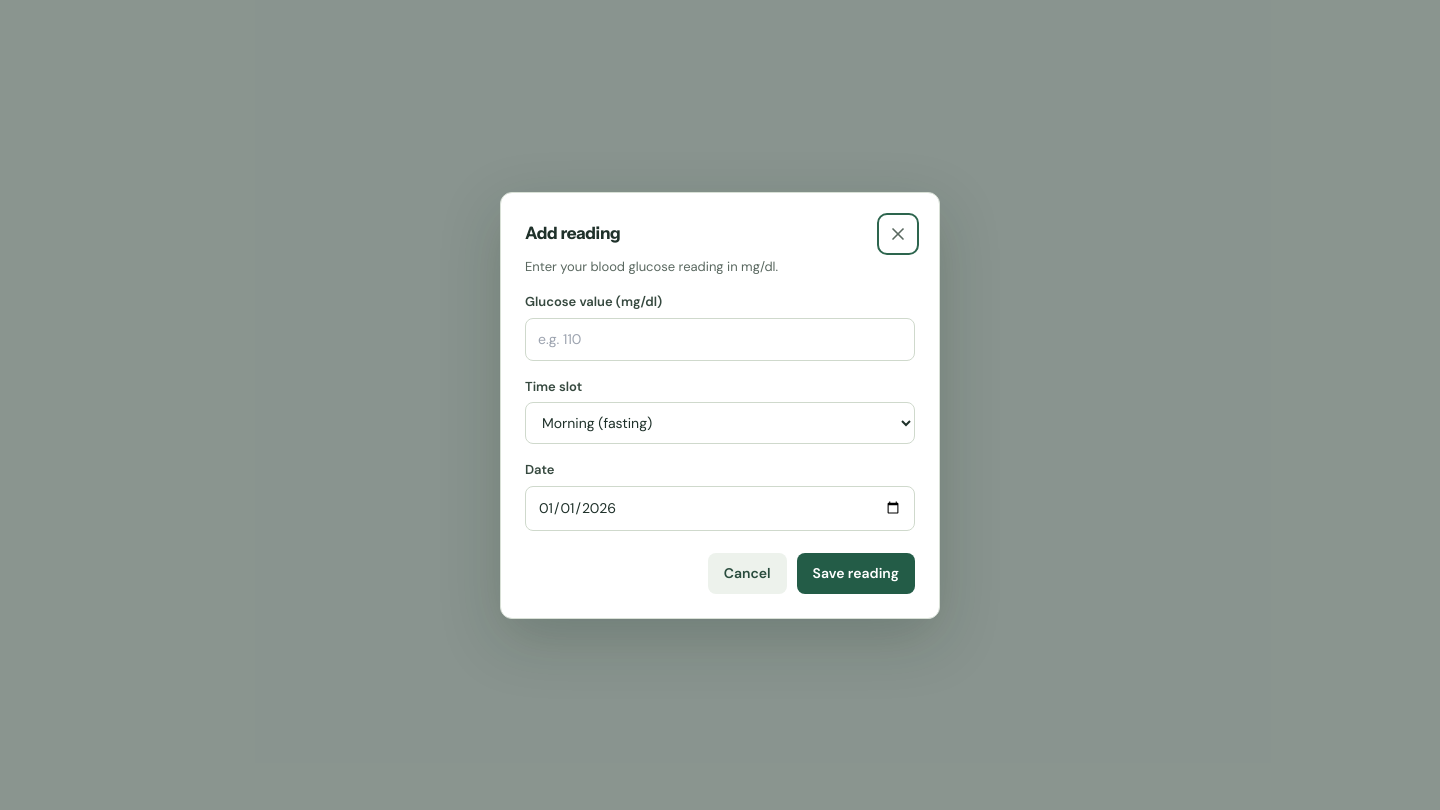
Test: Reading modal › renders labelled inputs and validates required value
Expected: the dropdown labelled "Time slot" is shown, [525,402,915,444]
Click the button "Save reading". click: [856, 573]
box: [797,552,915,594]
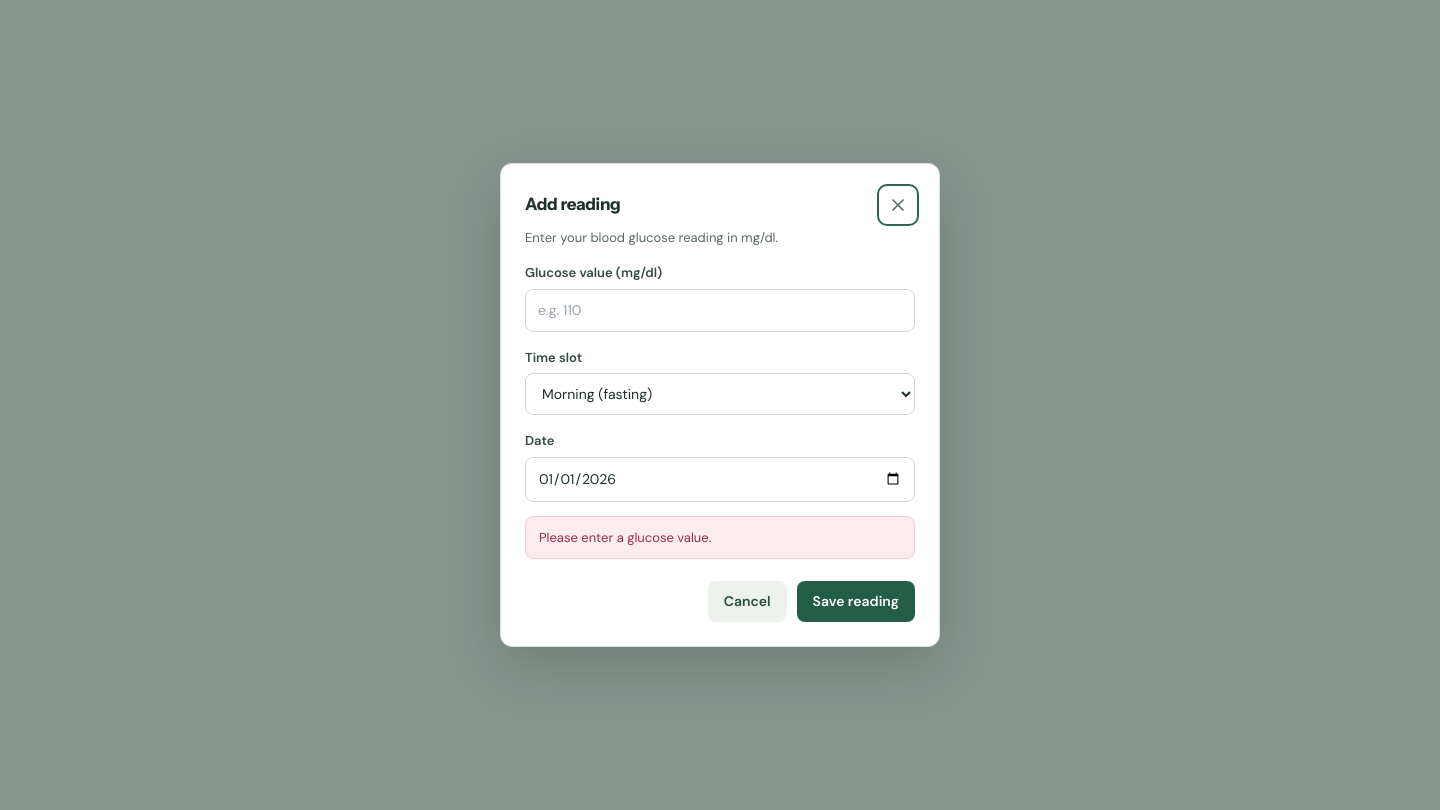
Expected: the message reads "Please enter a glucose value.", [539,529,711,546]
